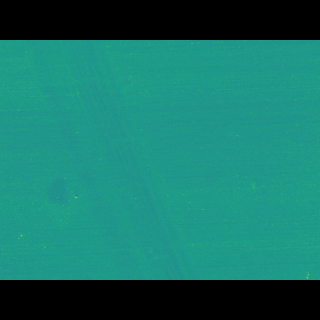Loch: (23, 70, 198, 249), (36, 170, 80, 202)
